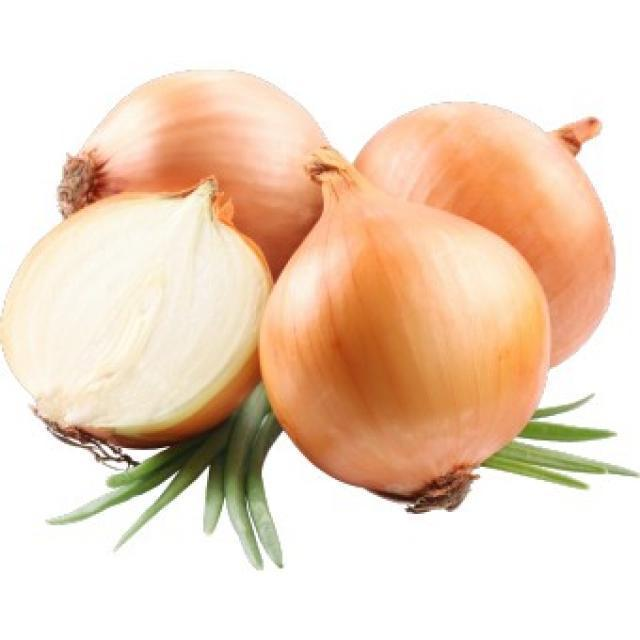onion: (257, 149, 552, 510), (353, 101, 617, 370), (59, 68, 353, 284)
